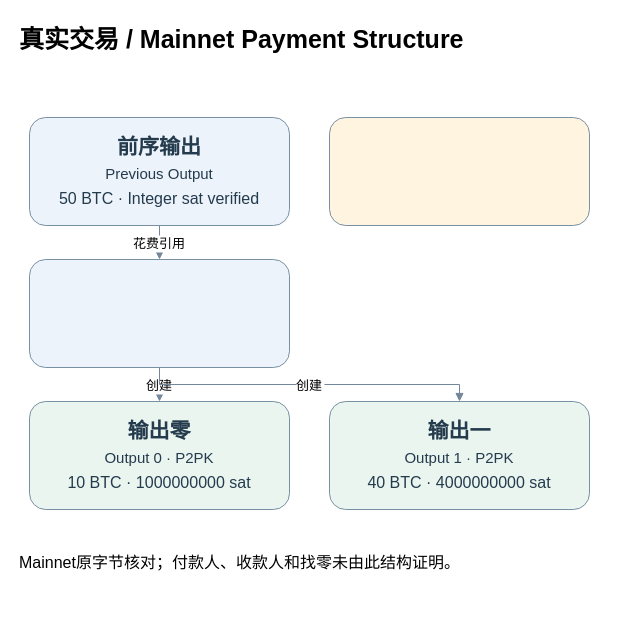
Image size: 618x633. Some labels were removed from this diagram. Each missing label, with the centre of its shape:
"Case 01交易 f4184fc5… · h170 2009-01-12 UTC" belongs at (x=159, y=313).
"费用差额 Fee Difference 0 sat" belongs at (x=459, y=171).
